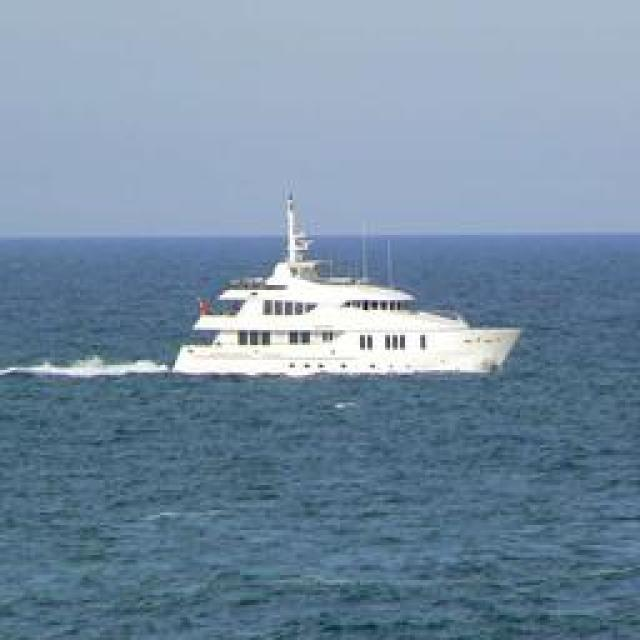CIV_Ship: (164, 186, 514, 382)
